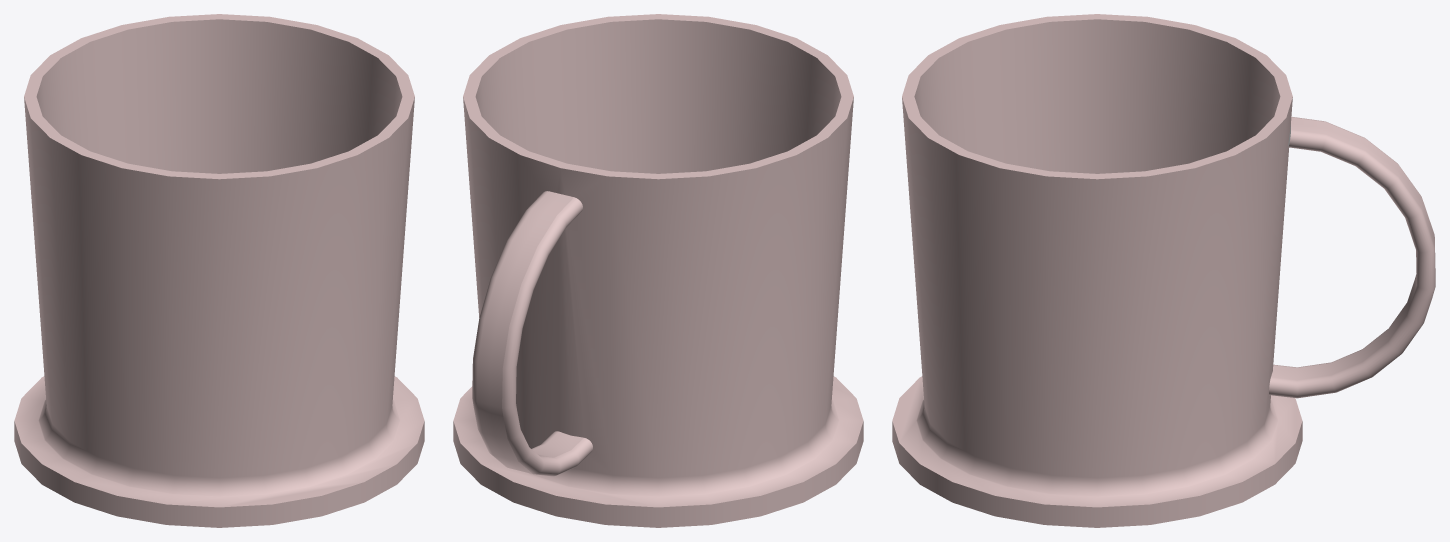
3 views of the same model, side by side, from view 1: azimuth 30°, elevation 25°; view 2: azimuth 150°, elevation 25°; view 3: azimuth 270°, elevation 25° (orthographic).
Parts seen in each view (by area): view 1: mesh1_mesh1-geometry; view 2: mesh1_mesh1-geometry; view 3: mesh1_mesh1-geometry.
Part boxes in pixels (x1,y1,x2,y2): mesh1_mesh1-geometry: (14, 14, 424, 527); mesh1_mesh1-geometry: (453, 14, 863, 527); mesh1_mesh1-geometry: (892, 14, 1435, 527).
Bounding box in the file's own units: 0.526 × 0.4877 × 0.6967.
